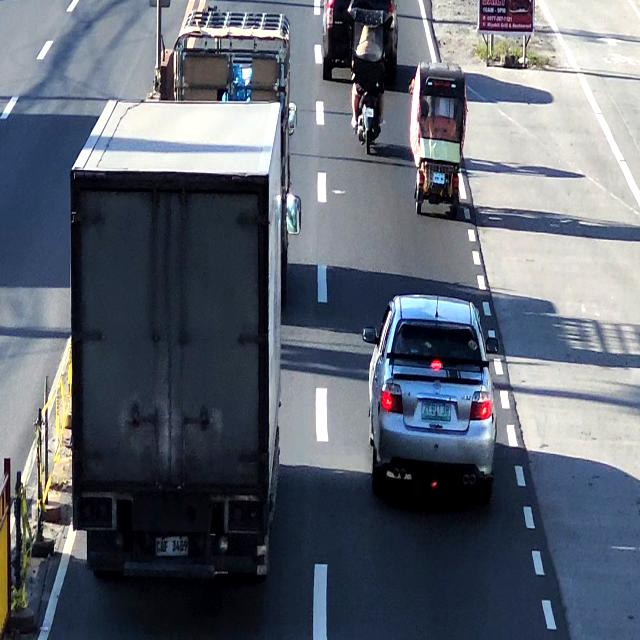Car: (369, 294, 496, 501)
License-Plate: (153, 534, 190, 557), (420, 398, 454, 422)
Motorcycle: (347, 2, 388, 158)
Truck: (80, 103, 280, 584), (160, 8, 295, 104)
